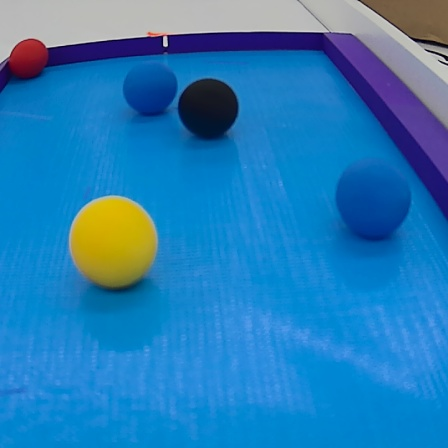black: (173, 78, 238, 141)
blue: (335, 158, 413, 245), (118, 62, 179, 118)
blue_aim: (3, 27, 448, 448)
red: (5, 30, 50, 82)
yellow: (62, 189, 167, 297)
